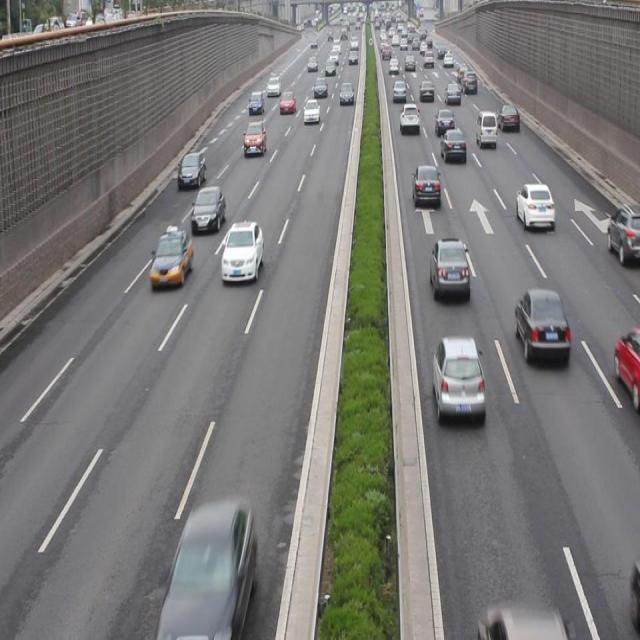car: (162, 493, 254, 640), (431, 334, 484, 425), (514, 286, 569, 364), (220, 220, 264, 284), (428, 235, 468, 304), (150, 228, 192, 289), (606, 202, 640, 265), (514, 180, 553, 231), (614, 329, 640, 404), (190, 186, 225, 234), (411, 164, 440, 208), (178, 149, 206, 190), (440, 127, 465, 166), (243, 121, 267, 159), (497, 102, 519, 134), (399, 102, 420, 134), (434, 108, 454, 139)
truck: (475, 109, 496, 148)
